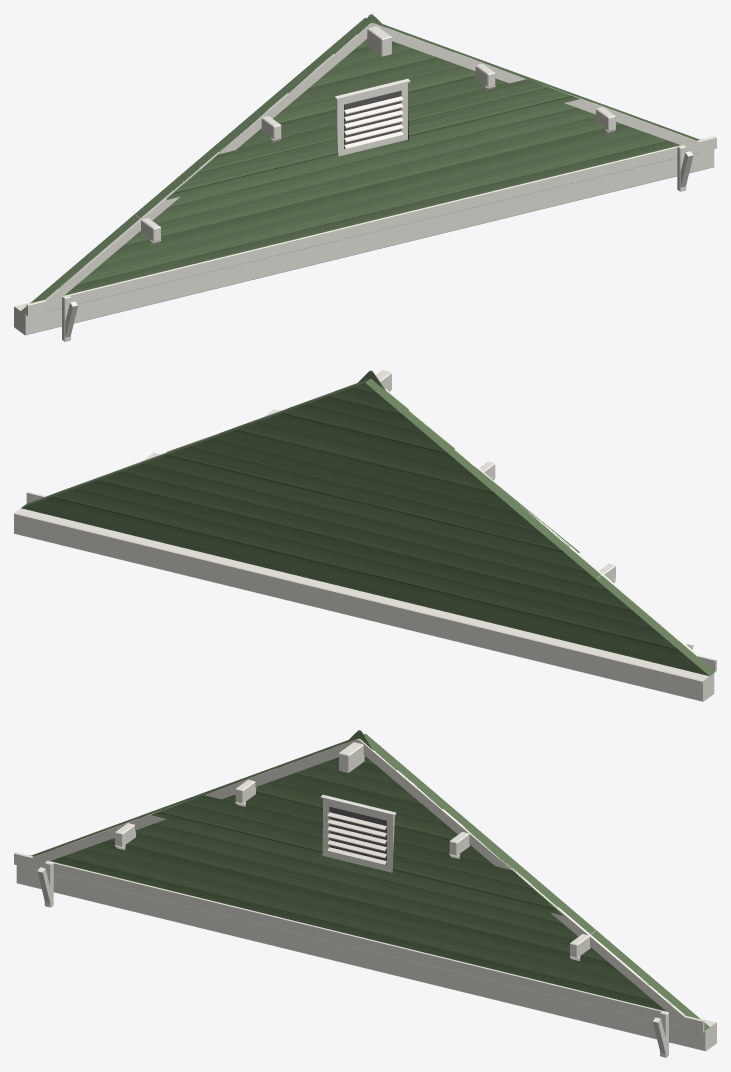
File: porch_gable.glb
3 views of the same model, one above another, from view 1: azimuth 30°, elevation 25°; view 2: azimuth 150°, elevation 25°; view 3: azimuth 330°, elevation 25° (orthographic).
Visible parts, largest first — view 1: porch_gable_siding, porch_gable_trim, porch_gable_dark; view 2: porch_gable_siding, porch_gable_trim; view 3: porch_gable_siding, porch_gable_trim, porch_gable_dark.
Part boxes in pixels (left/top/right/bottom): porch_gable_siding: left=21, top=14, right=699, bottom=315; porch_gable_trim: left=14, top=22, right=716, bottom=341; porch_gable_dark: left=344, top=90, right=401, bottom=148; porch_gable_siding: left=21, top=370, right=714, bottom=676; porch_gable_trim: left=14, top=370, right=716, bottom=701; porch_gable_siding: left=31, top=730, right=709, bottom=1031; porch_gable_trim: left=14, top=738, right=716, bottom=1057; porch_gable_dark: left=329, top=806, right=386, bottom=864.
Size of the model in its own units: 10.3 by 3.55 by 0.745.
Materials: 3 (1 with a texture image).
